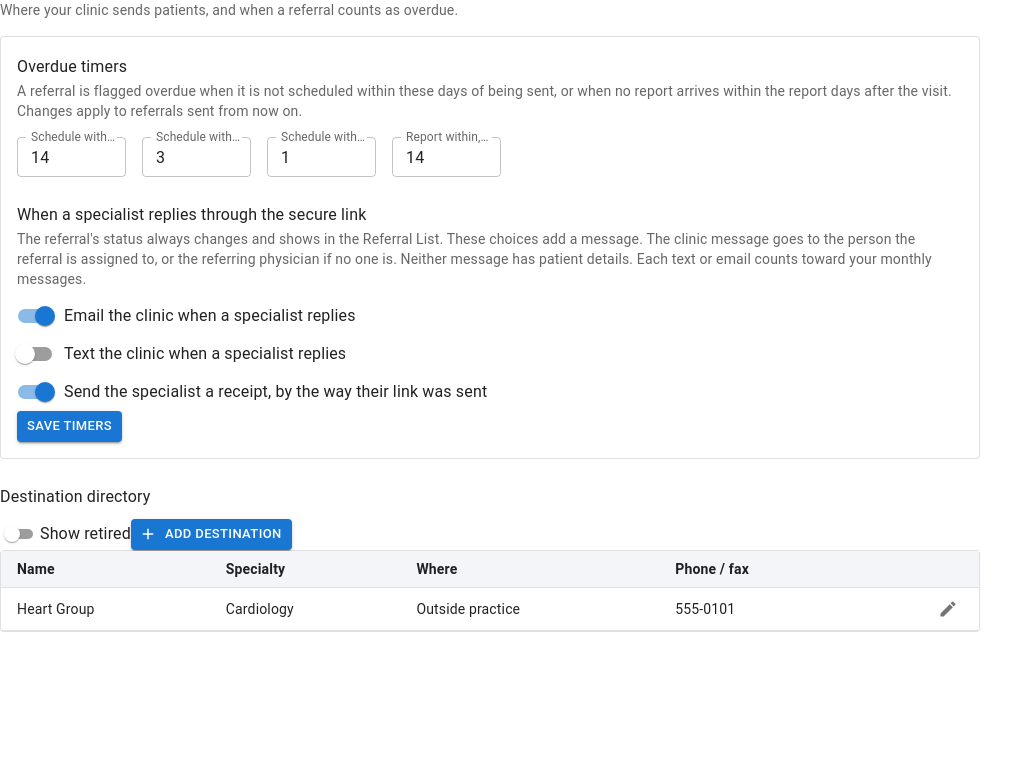
Test: a server message on a duplicate destination is shown
The width and height of the screenshot is (1024, 768).
Click the button with test id "destination-add" at (211, 534), box left=131, top=519, right=292, bottom=550
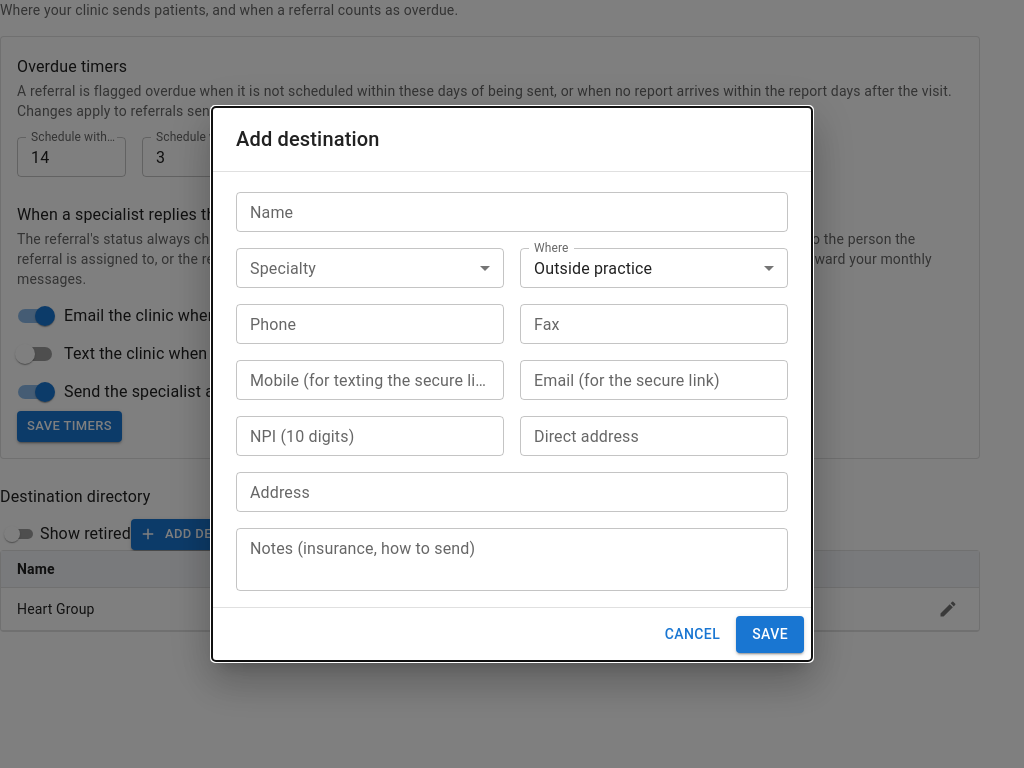
Type "Heart Group" into the field with test id "destination-name" at (512, 212), box left=236, top=192, right=788, bottom=232
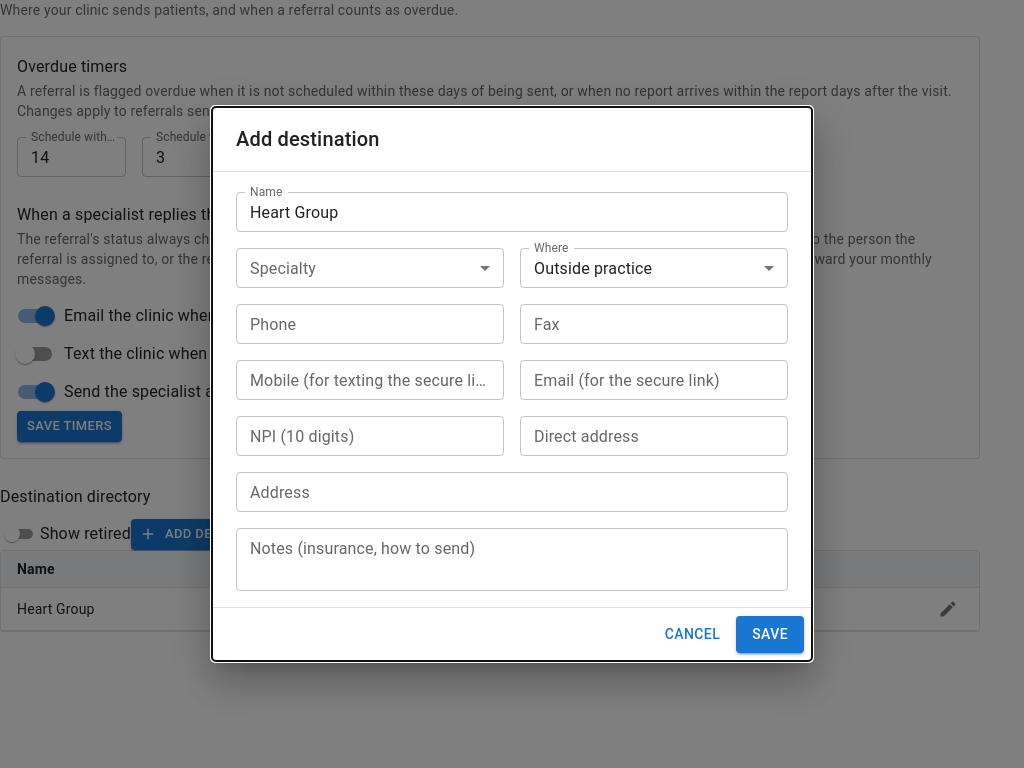
Click the button with test id "destination-save" at (770, 635), box left=736, top=616, right=804, bottom=653
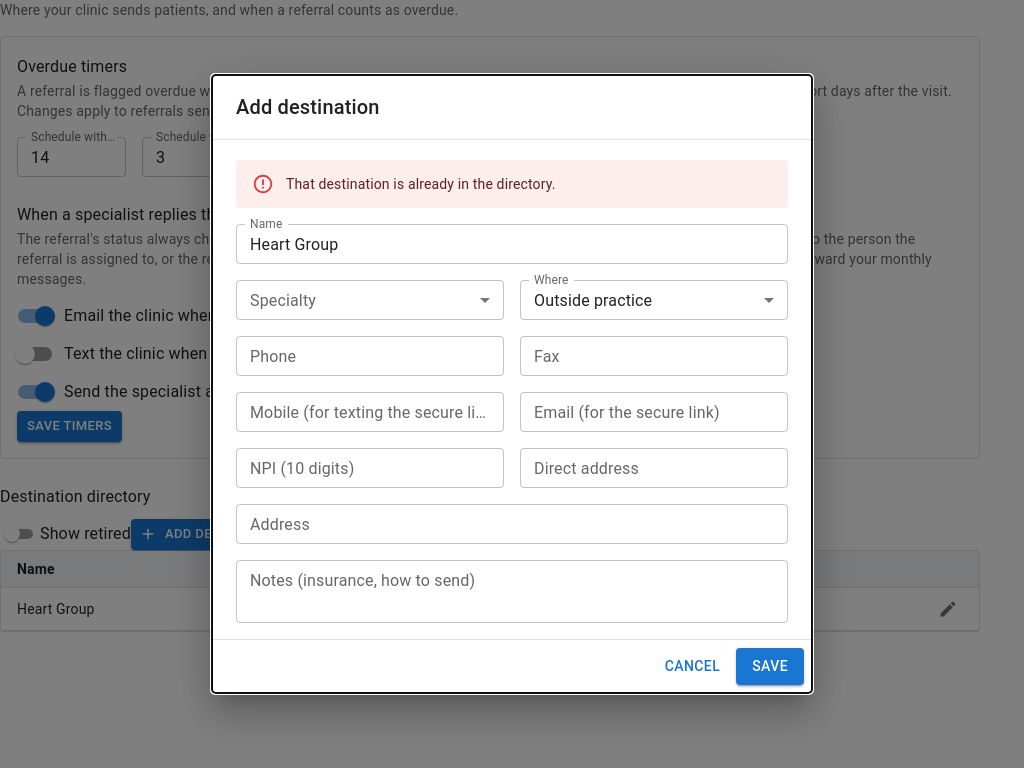
Check: the message with test id "destination-error" shows "already in the directory", box left=286, top=176, right=556, bottom=192
